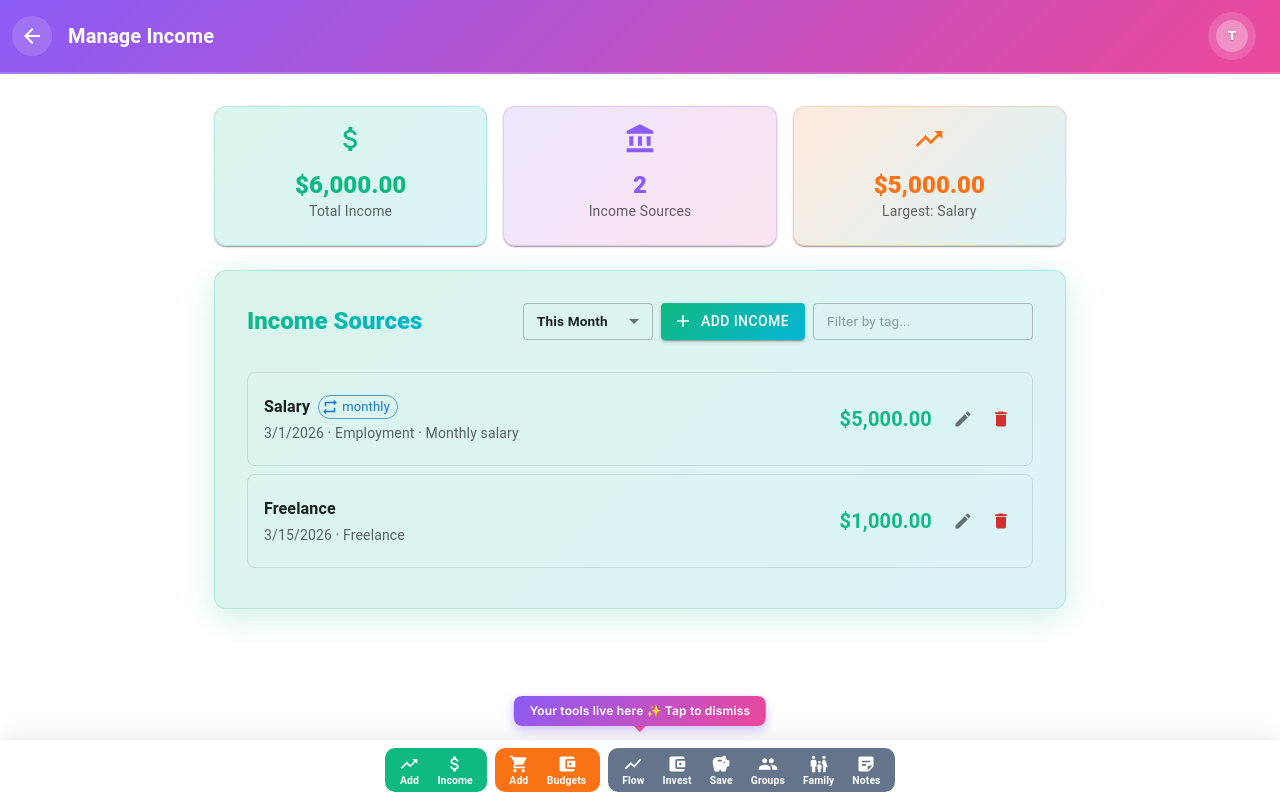
Test: ManageIncome Page › should open add dialog when clicking Add Income
Expected: the text "Salary" is shown, [264,395,310,419]
Click the button "Add Income" at (733, 321), box [661,303,805,340]
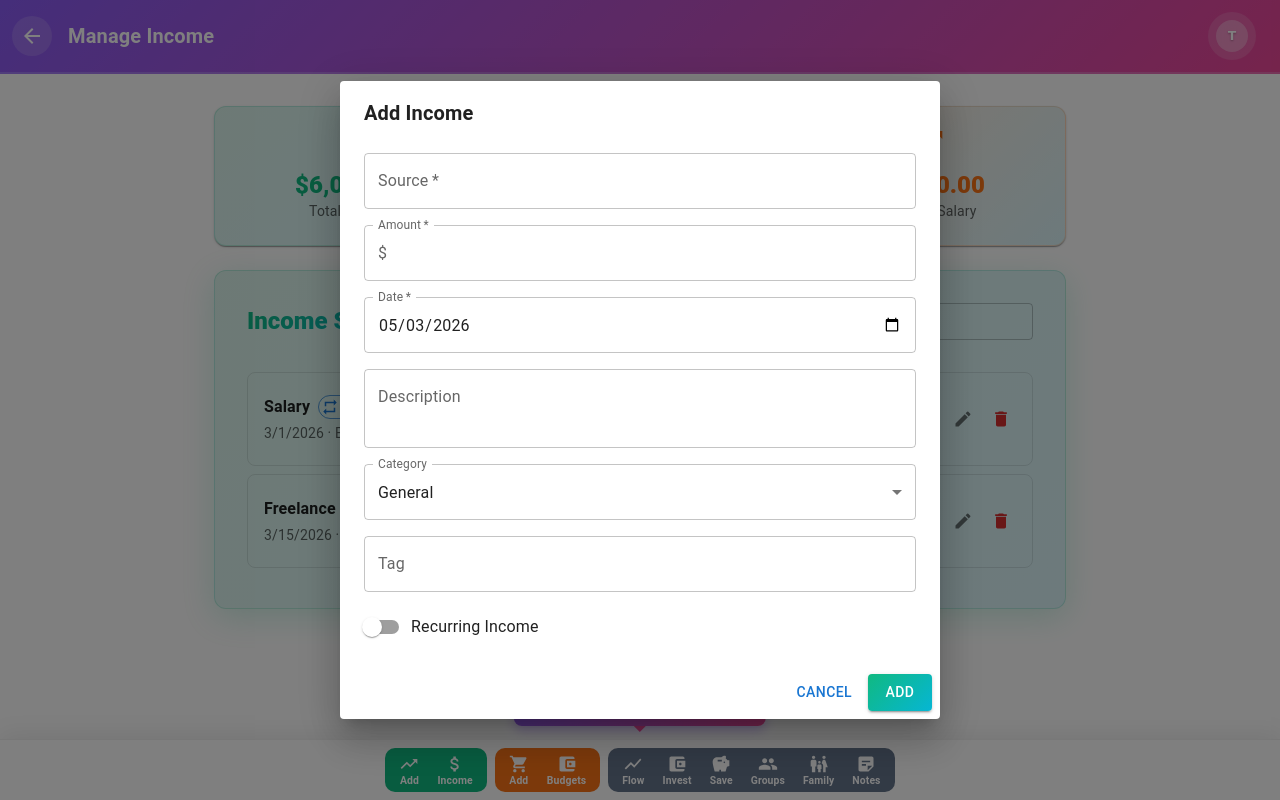
Expected: the dialog is shown, [340,81,940,719]
